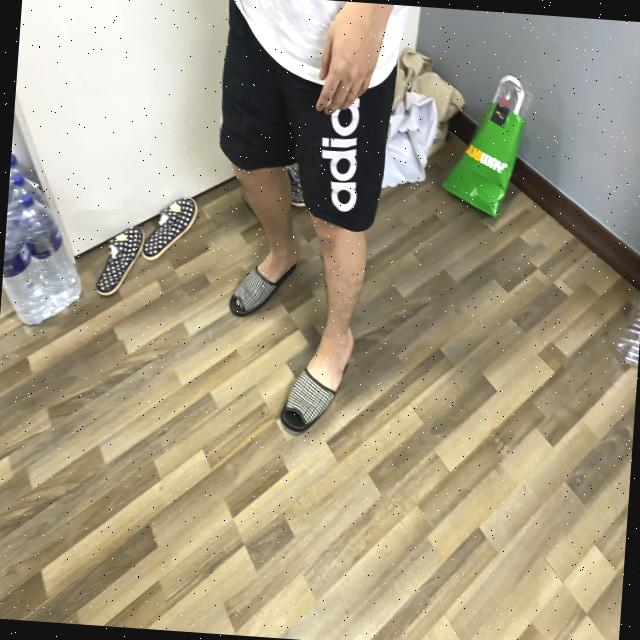no-boots: (292, 313, 364, 448), (226, 231, 306, 324)
